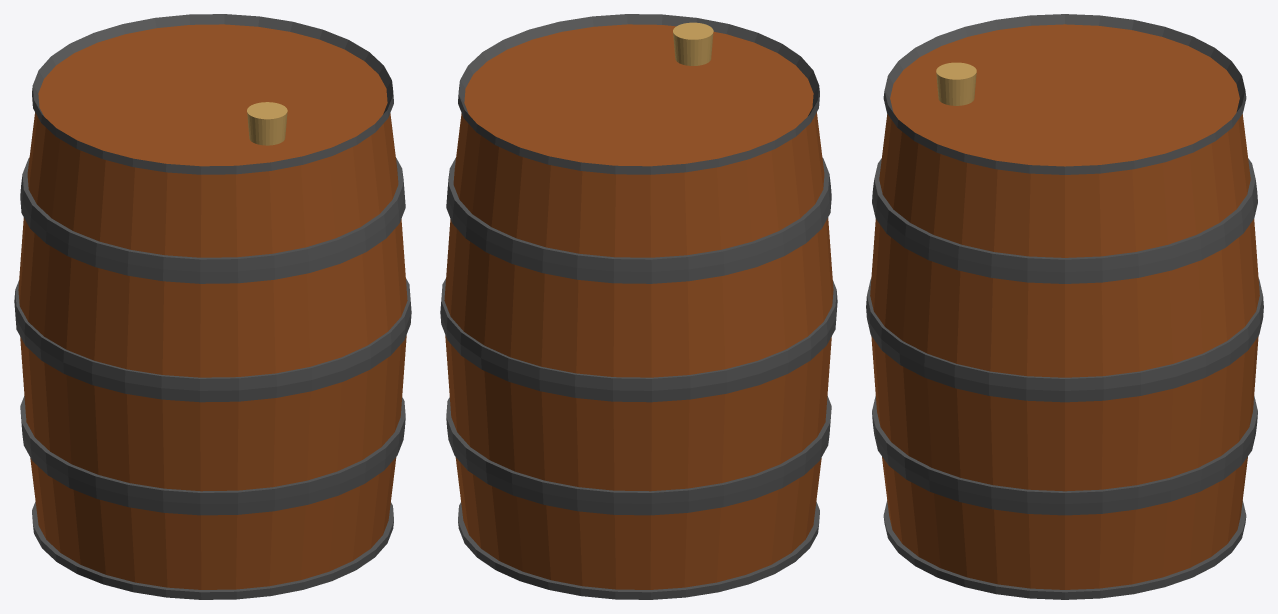
The model's file is Barrel1.fbx.
The picture shows the model from 3 angles, left to right: view 1: azimuth 30°, elevation 25°; view 2: azimuth 150°, elevation 25°; view 3: azimuth 270°, elevation 25°; orthographic projection.
Parts seen in each view (by area): view 1: Cylinder, Cylinder.001; view 2: Cylinder, Cylinder.001; view 3: Cylinder, Cylinder.001.
Part boxes in pixels (x1,y1,x2,y2): Cylinder: (14, 14, 411, 599); Cylinder.001: (247, 102, 287, 145); Cylinder: (440, 14, 837, 599); Cylinder.001: (673, 22, 713, 65); Cylinder: (866, 14, 1263, 599); Cylinder.001: (936, 62, 976, 105).
Bounding box in the file's own units: 105 × 132 × 105.
